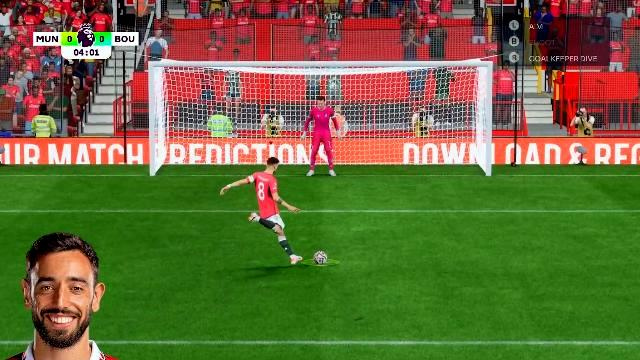bottom-left: (159, 128, 271, 178)
bottom-right: (374, 128, 486, 178)
center-down: (272, 128, 372, 178)
center-up: (271, 69, 371, 127)
circle: (303, 256, 339, 264)
football: (314, 252, 328, 262)
goalkeeper: (302, 95, 341, 177)
player: (218, 147, 300, 267)
top-left: (157, 70, 270, 128)
top-right: (374, 68, 488, 127)
